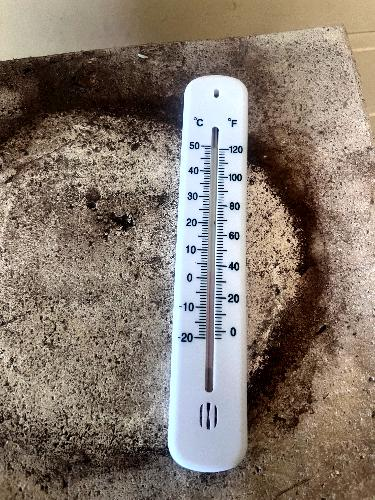thermo: (168, 77, 255, 456)
